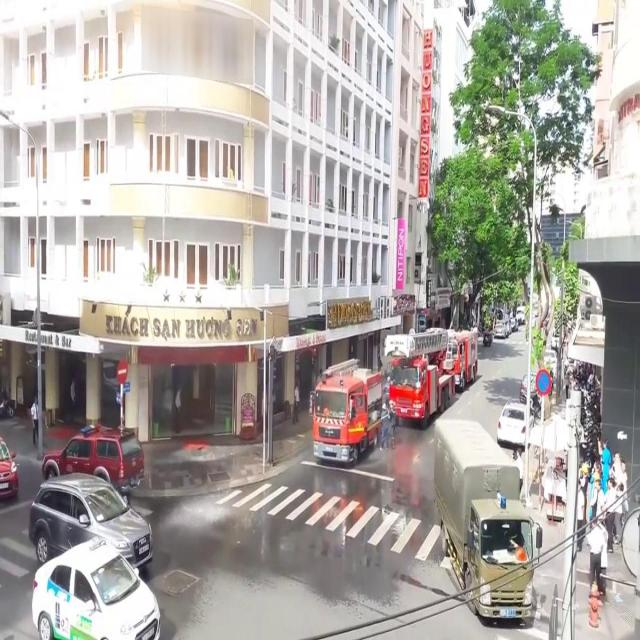car: (31, 536, 161, 640), (28, 474, 152, 566), (42, 421, 144, 486), (496, 401, 526, 443), (0, 433, 18, 496)
truck: (435, 416, 535, 620), (384, 327, 454, 429), (312, 358, 380, 462)
